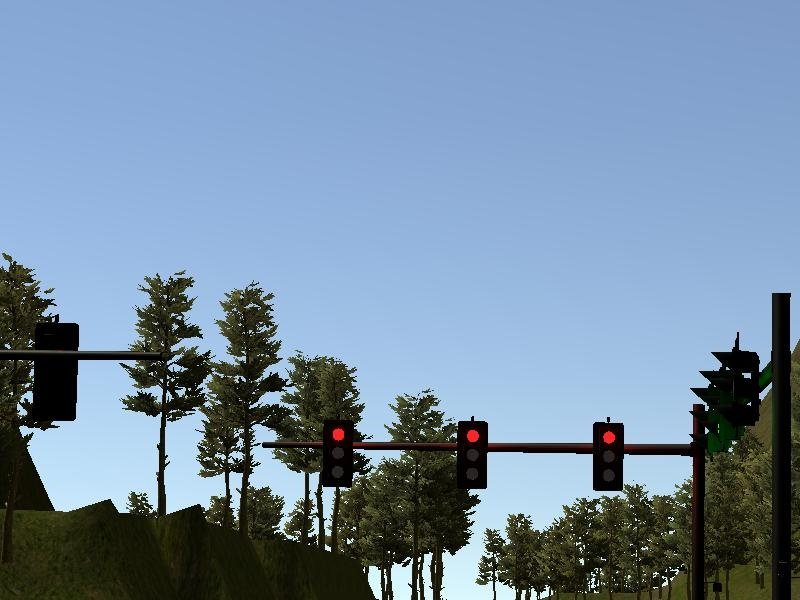red: (590, 421, 625, 492), (454, 420, 489, 490), (320, 419, 354, 488)
